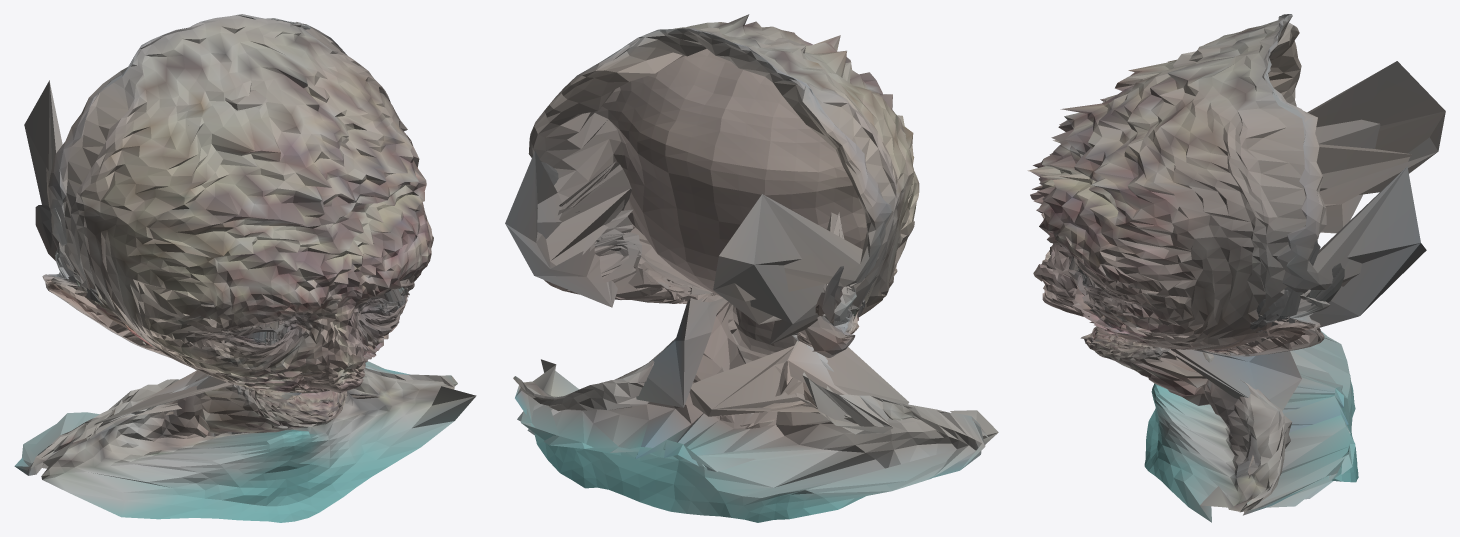
File: chibi_textured_mesh.obj
3 views of the same model, side by side, from view 1: azimuth 30°, elevation 25°; view 2: azimuth 150°, elevation 25°; view 3: azimuth 270°, elevation 25° (orthographic). The views are drawn at different scales.
Size of the model in its own units: 0.327 by 0.3176 by 0.2839.
